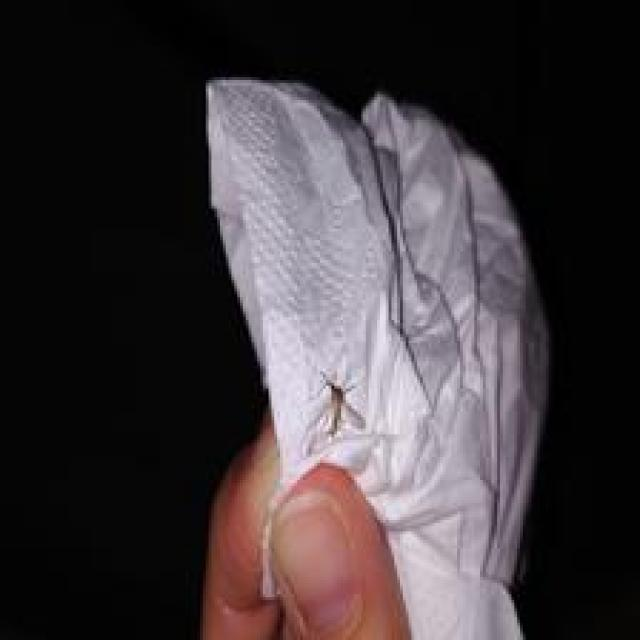Culex: (201, 74, 553, 640)
